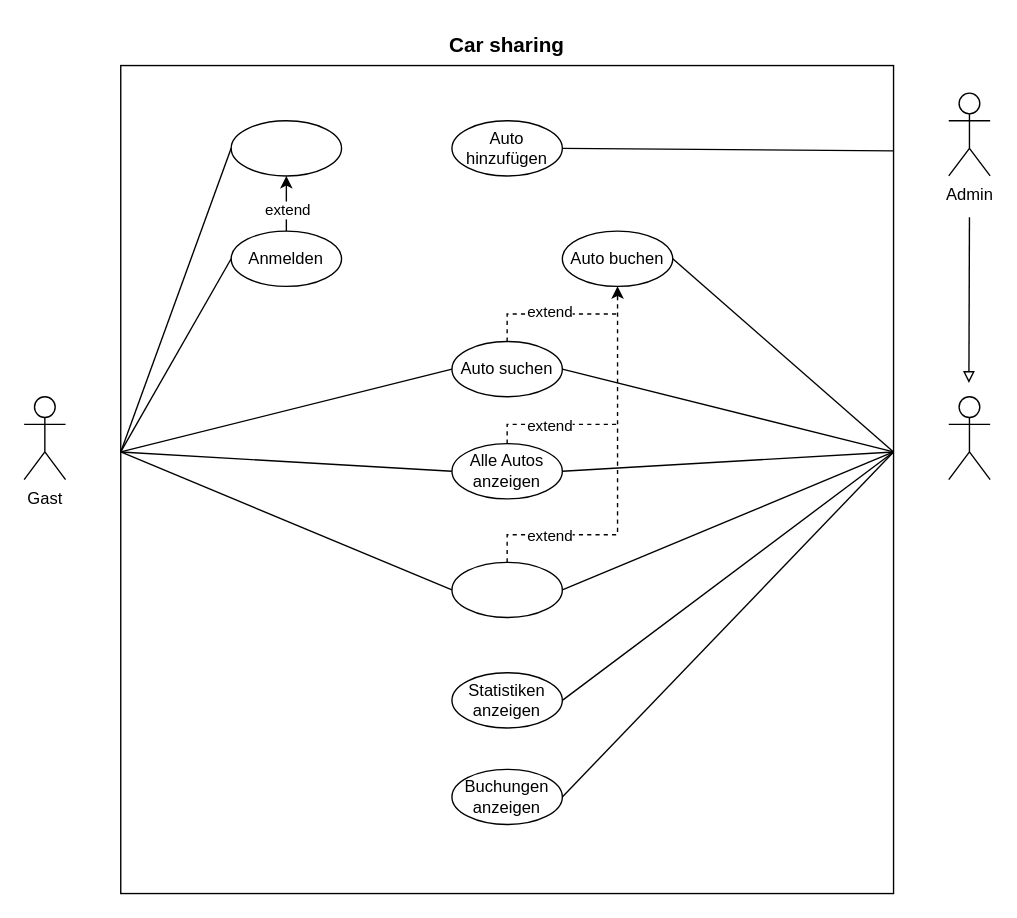
This 1017x918 diagram has some shape labels left out. Each missing label, with the centre of its shape:
Filtern: the point at 506,589
Registrieren: the point at 286,147
User: the point at 968,437
